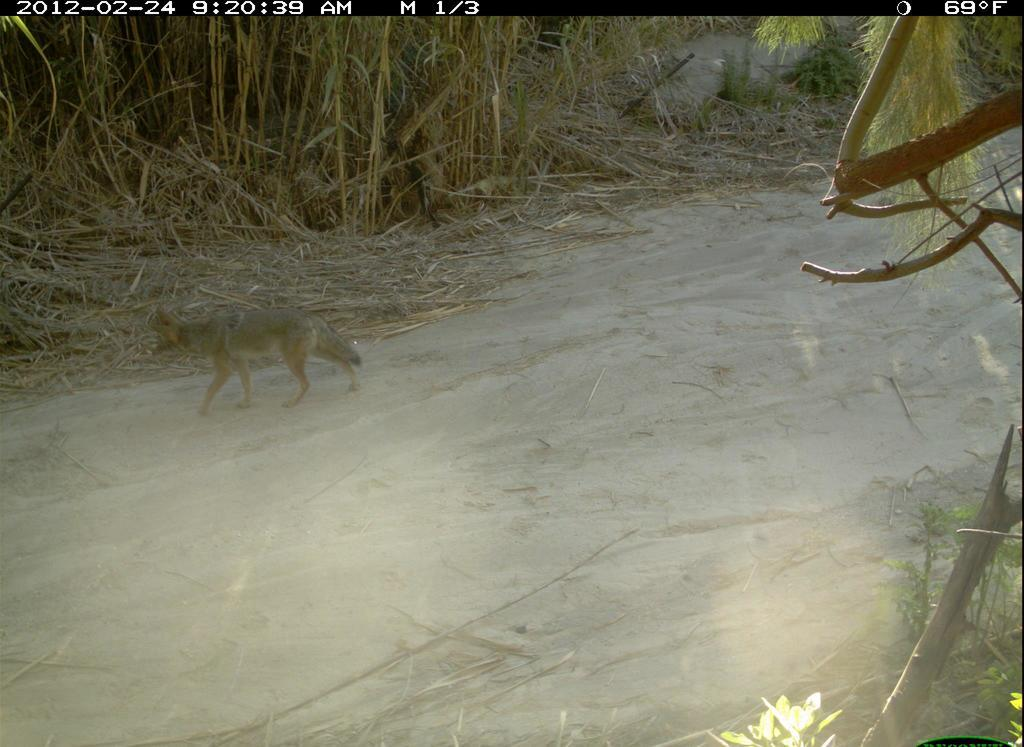coyote: (135, 291, 377, 425)
